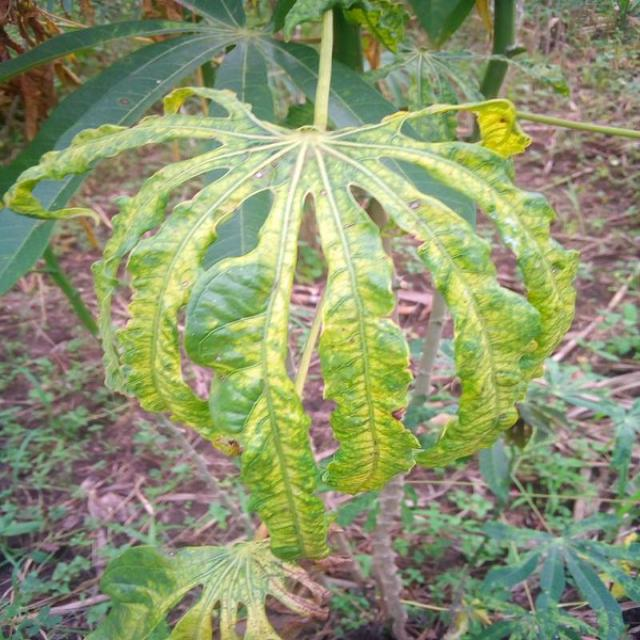cassava leaf: (2, 12, 580, 566)
